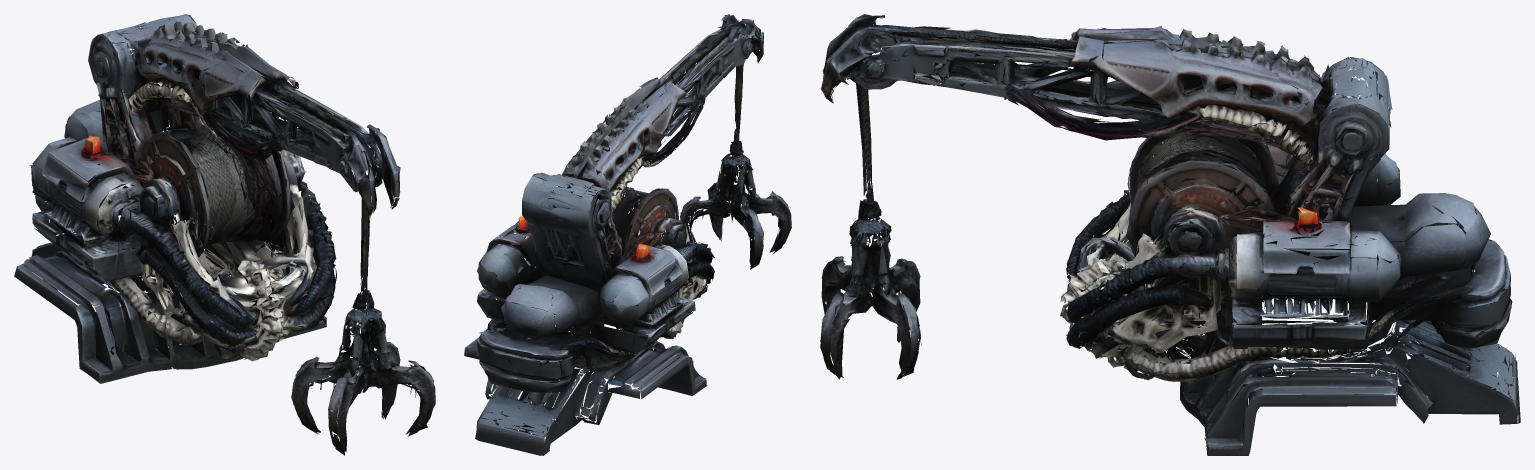
The model's file is chasm_dredge_hook_crane.glb.
The picture shows the model from 3 angles, left to right: view 1: azimuth 30°, elevation 25°; view 2: azimuth 150°, elevation 25°; view 3: azimuth 270°, elevation 25°; orthographic projection. The views are drawn at different scales.
Parts seen in each view (by area): view 1: node_0; view 2: node_0; view 3: node_0.
Boxes of the visible parts, x1=… form: node_0: x1=14, y1=14, x2=435, y2=455; node_0: x1=464, y1=14, x2=791, y2=455; node_0: x1=820, y1=14, x2=1520, y2=455.
Bounding box in the file's own units: 0.4347 × 0.6178 × 1.03.
Materials: 1 (1 with a texture image).
